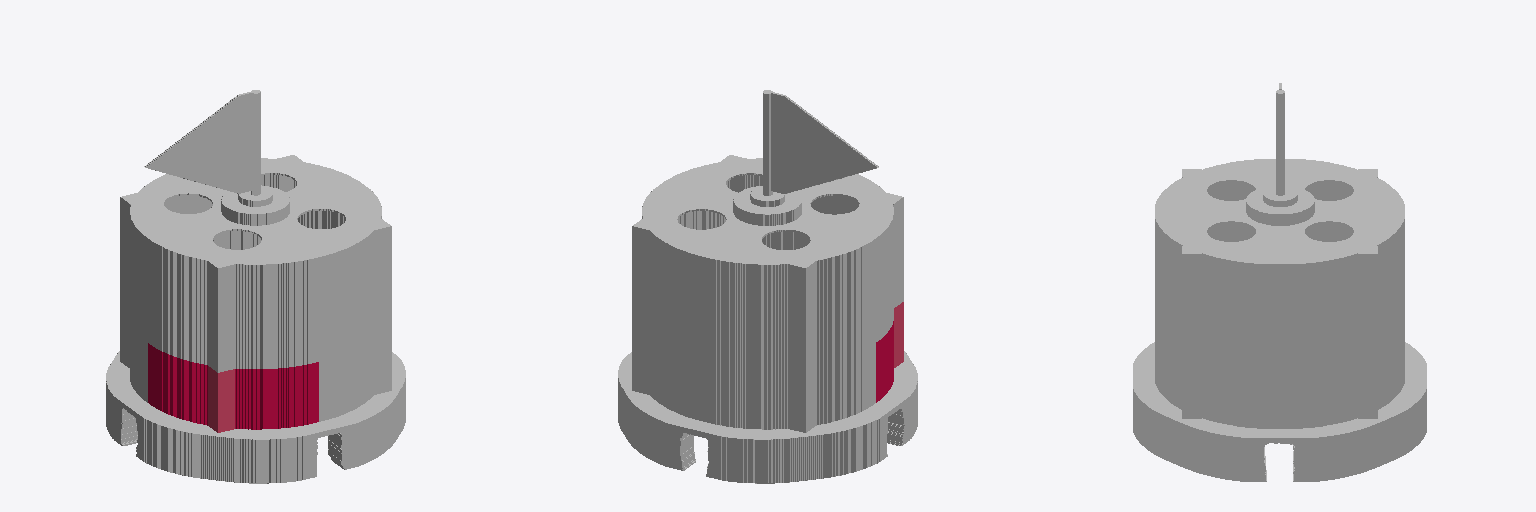
The picture shows the model from 3 angles: view 1: azimuth 30°, elevation 25°; view 2: azimuth 150°, elevation 25°; view 3: azimuth 270°, elevation 25°; orthographic projection.
Visible parts, largest first — view 1: Untitled.001; view 2: Untitled.001; view 3: Untitled.001.
Boxes of the visible parts, x1,y1,x2,y2 form: Untitled.001: [106, 90, 405, 483]; Untitled.001: [618, 90, 917, 483]; Untitled.001: [1133, 83, 1426, 481].
Bounding box in the file's own units: 60 × 74.3 × 60.
Materials: 20 (1 with a texture image).